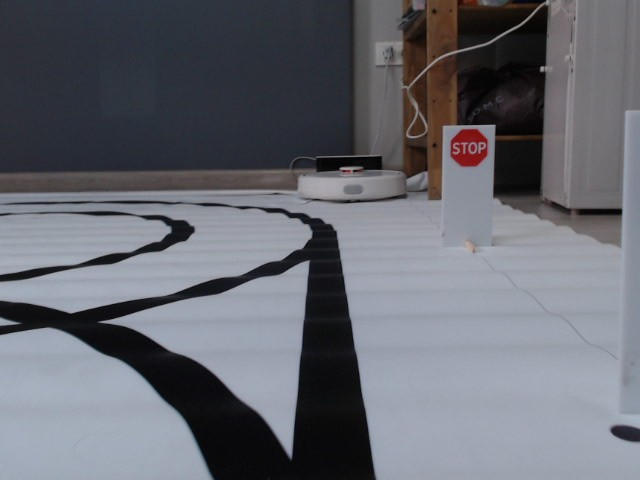Stop: (450, 130, 490, 165)
